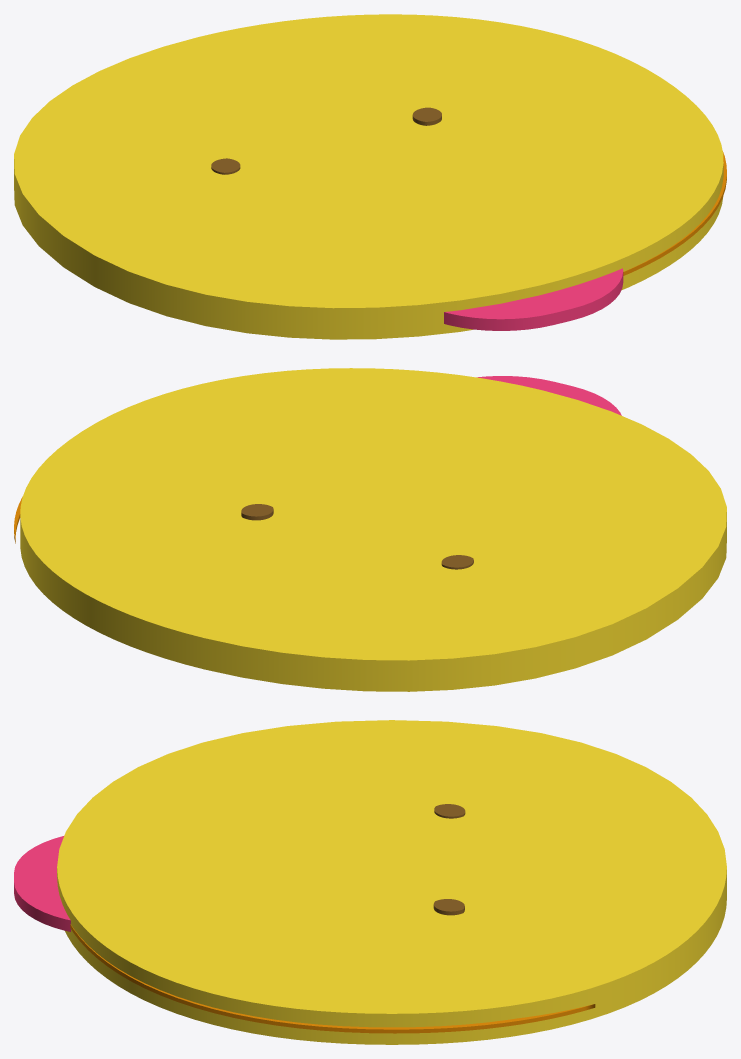
File: emoji_u1f61b.glb
The picture shows the model from 3 angles, top to bottom: view 1: azimuth 30°, elevation 25°; view 2: azimuth 150°, elevation 25°; view 3: azimuth 270°, elevation 25°; orthographic projection.
Parts seen in each view (by area): view 1: emoji_u1f61b; view 2: emoji_u1f61b; view 3: emoji_u1f61b.
Boxes of the visible parts, box(x1,y1,x2,y2) form: emoji_u1f61b: box(14, 14, 726, 339); emoji_u1f61b: box(14, 368, 726, 691); emoji_u1f61b: box(14, 720, 726, 1044).
Size of the model in its own units: 0.0327 by 0.002 by 0.0333.
